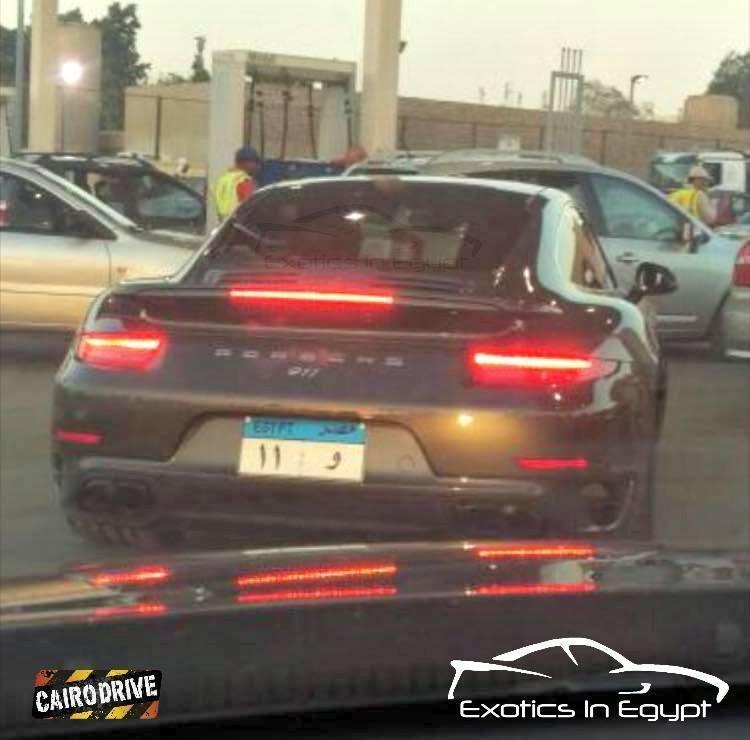1: (253, 441, 270, 472), (269, 441, 283, 472)
License Plate: (235, 413, 367, 486)
Wow: (321, 446, 346, 472)
car: (58, 180, 670, 541), (608, 158, 750, 334), (0, 156, 98, 339)
